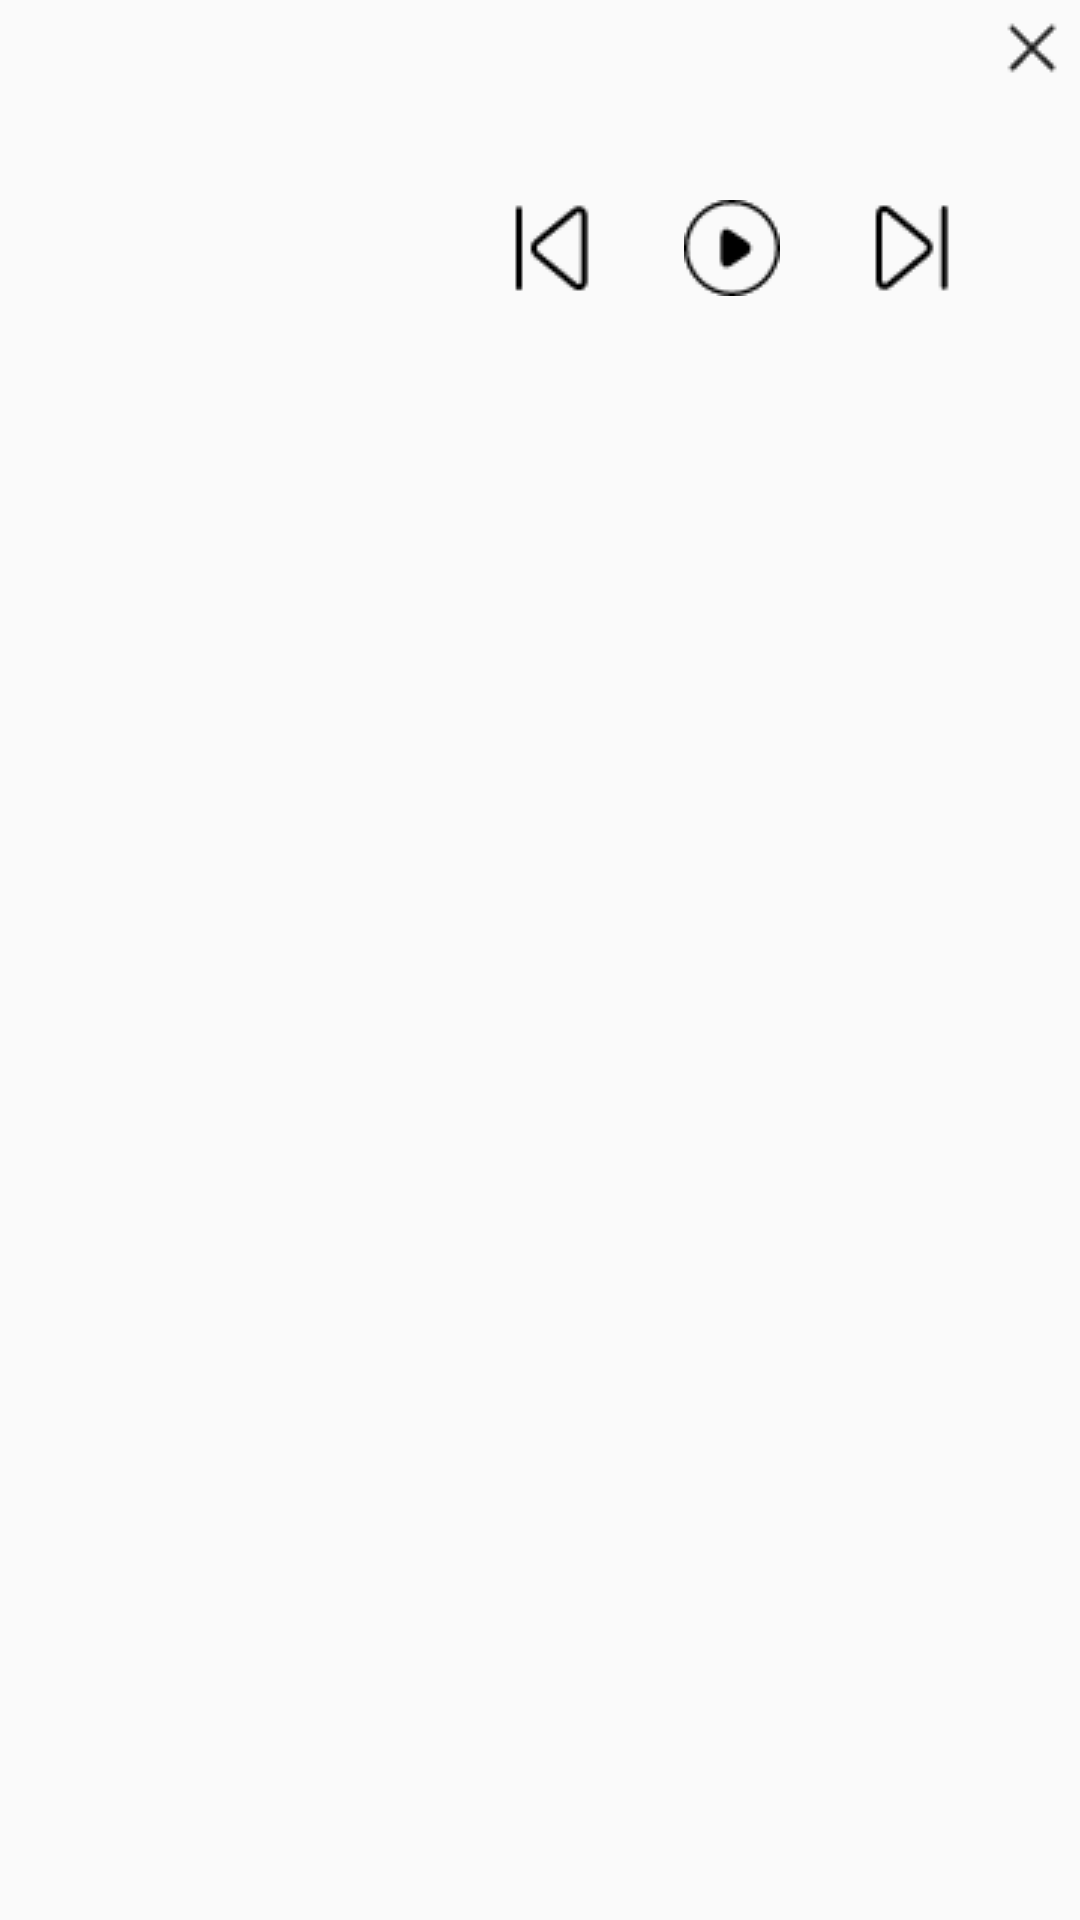

Where icons sit on this 1080x1920 app screen, as (x1, y1, x2, y2):
after: (875, 205, 949, 291)
before: (515, 205, 589, 291)
close: (1008, 23, 1057, 73)
play: (684, 200, 780, 296)
